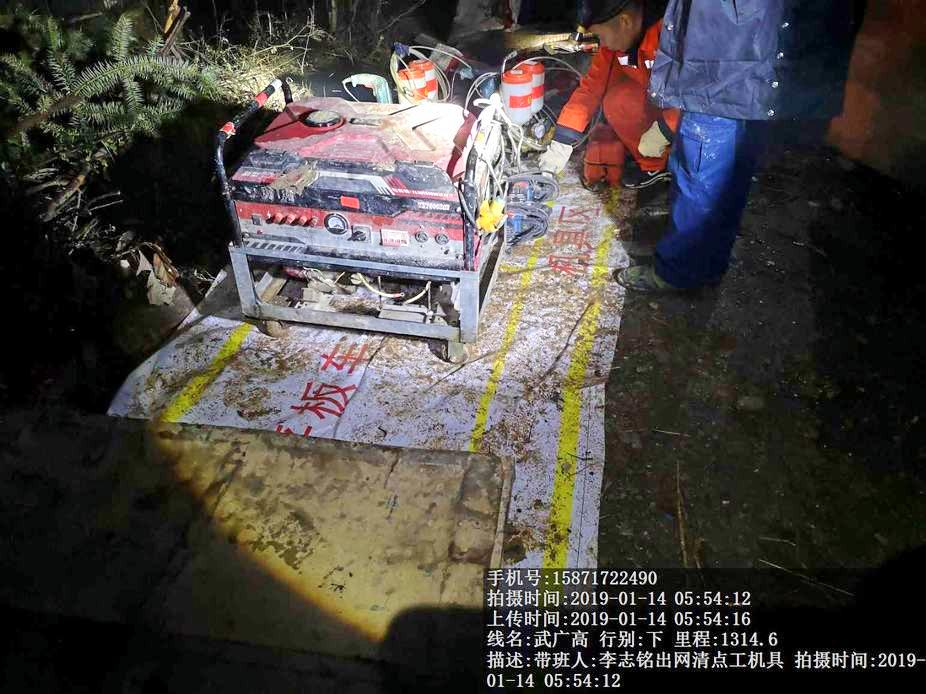DJ: (195, 92, 503, 363)
